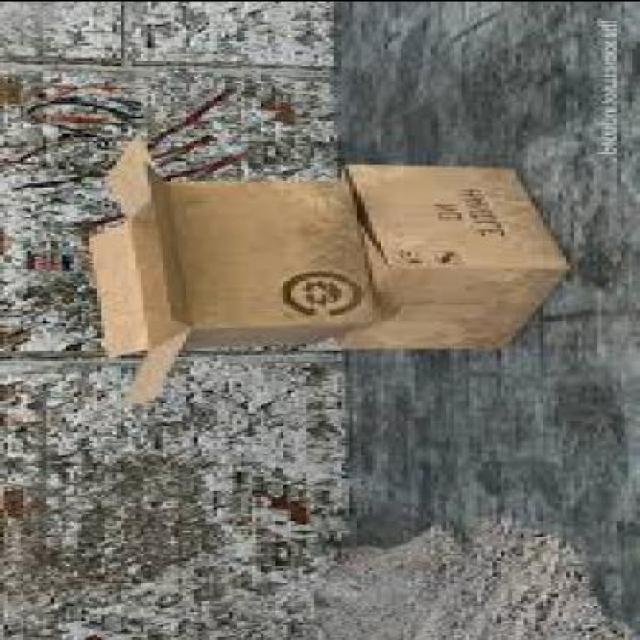CARDBOARD: (86, 138, 372, 402), (325, 160, 570, 346), (171, 178, 380, 322), (346, 161, 562, 268)
